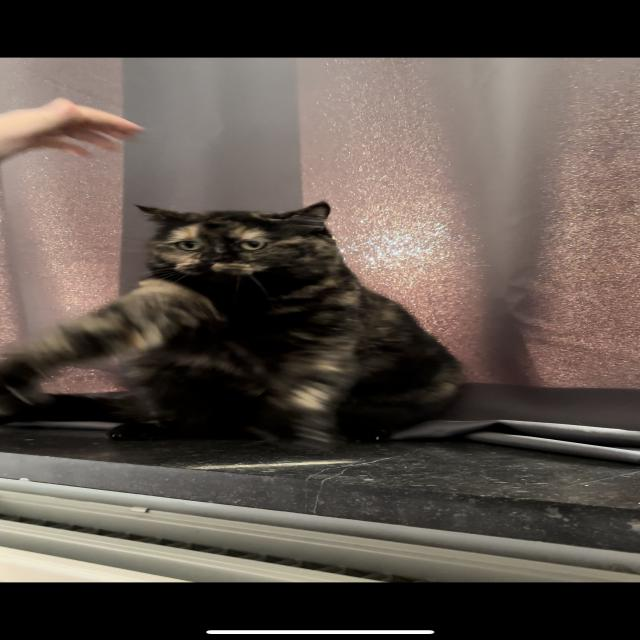authorized: (1, 200, 466, 452)
